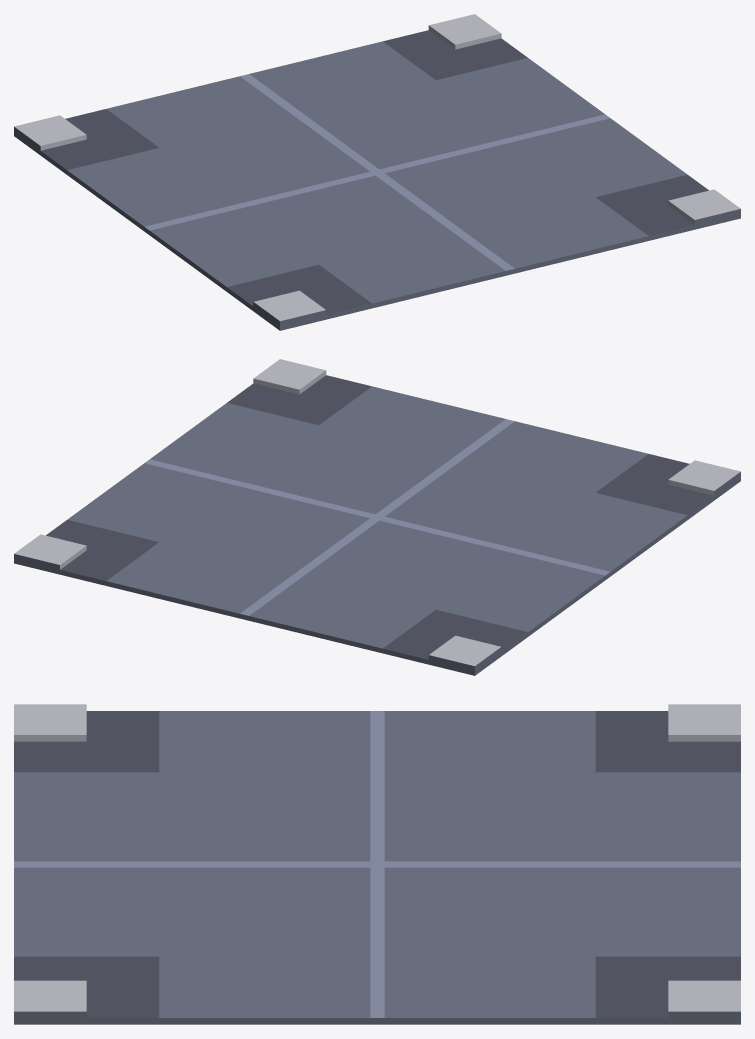
The model's file is Road Crossroad Line.glb.
3 views of the same model, one above another, from view 1: azimuth 30°, elevation 25°; view 2: azimuth 150°, elevation 25°; view 3: azimuth 270°, elevation 25° (orthographic). The views are drawn at different scales.
Parts seen in each view (by area): view 1: road_crossroadLine; view 2: road_crossroadLine; view 3: road_crossroadLine.
Part boxes in pixels (box(x1,y1,x2,y2)): road_crossroadLine: box(14, 14, 740, 330); road_crossroadLine: box(14, 359, 740, 675); road_crossroadLine: box(14, 704, 740, 1024).
Bounding box in the file's own units: 1 × 0.02 × 1.
